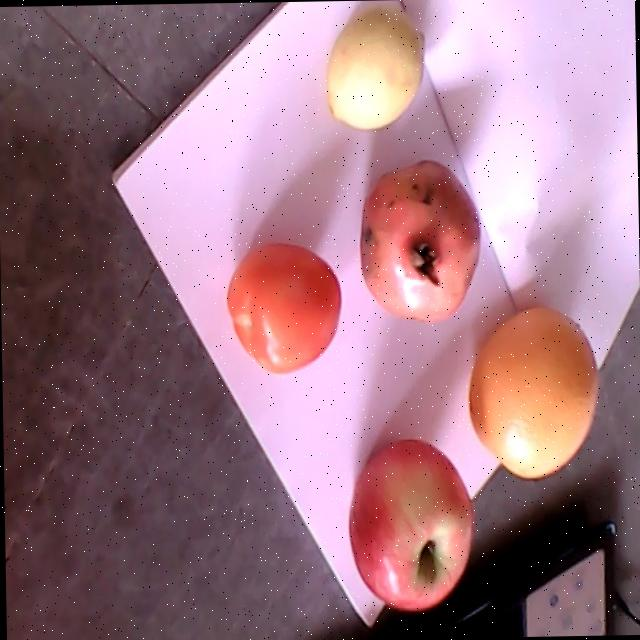apple: (349, 438, 471, 609)
lemon: (326, 11, 424, 128)
orange: (469, 304, 597, 479)
pomegranate: (359, 158, 479, 323)
tomato: (227, 241, 340, 372)
